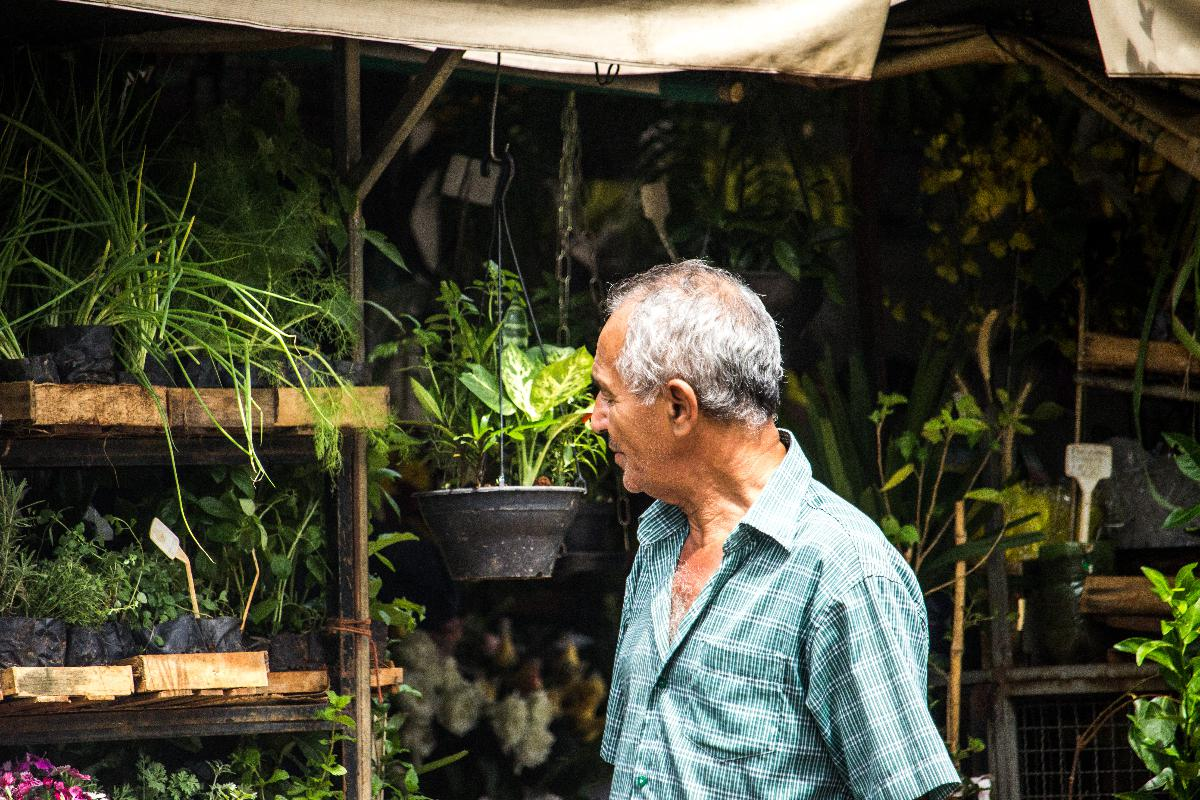Person: (574, 262, 981, 800)
